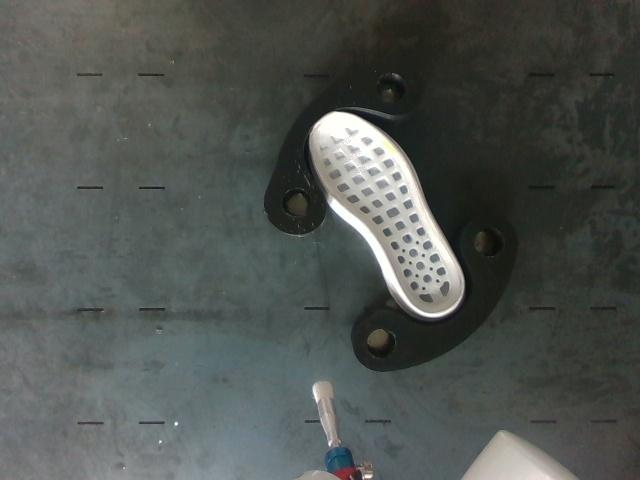shoes: (310, 113, 462, 313)
